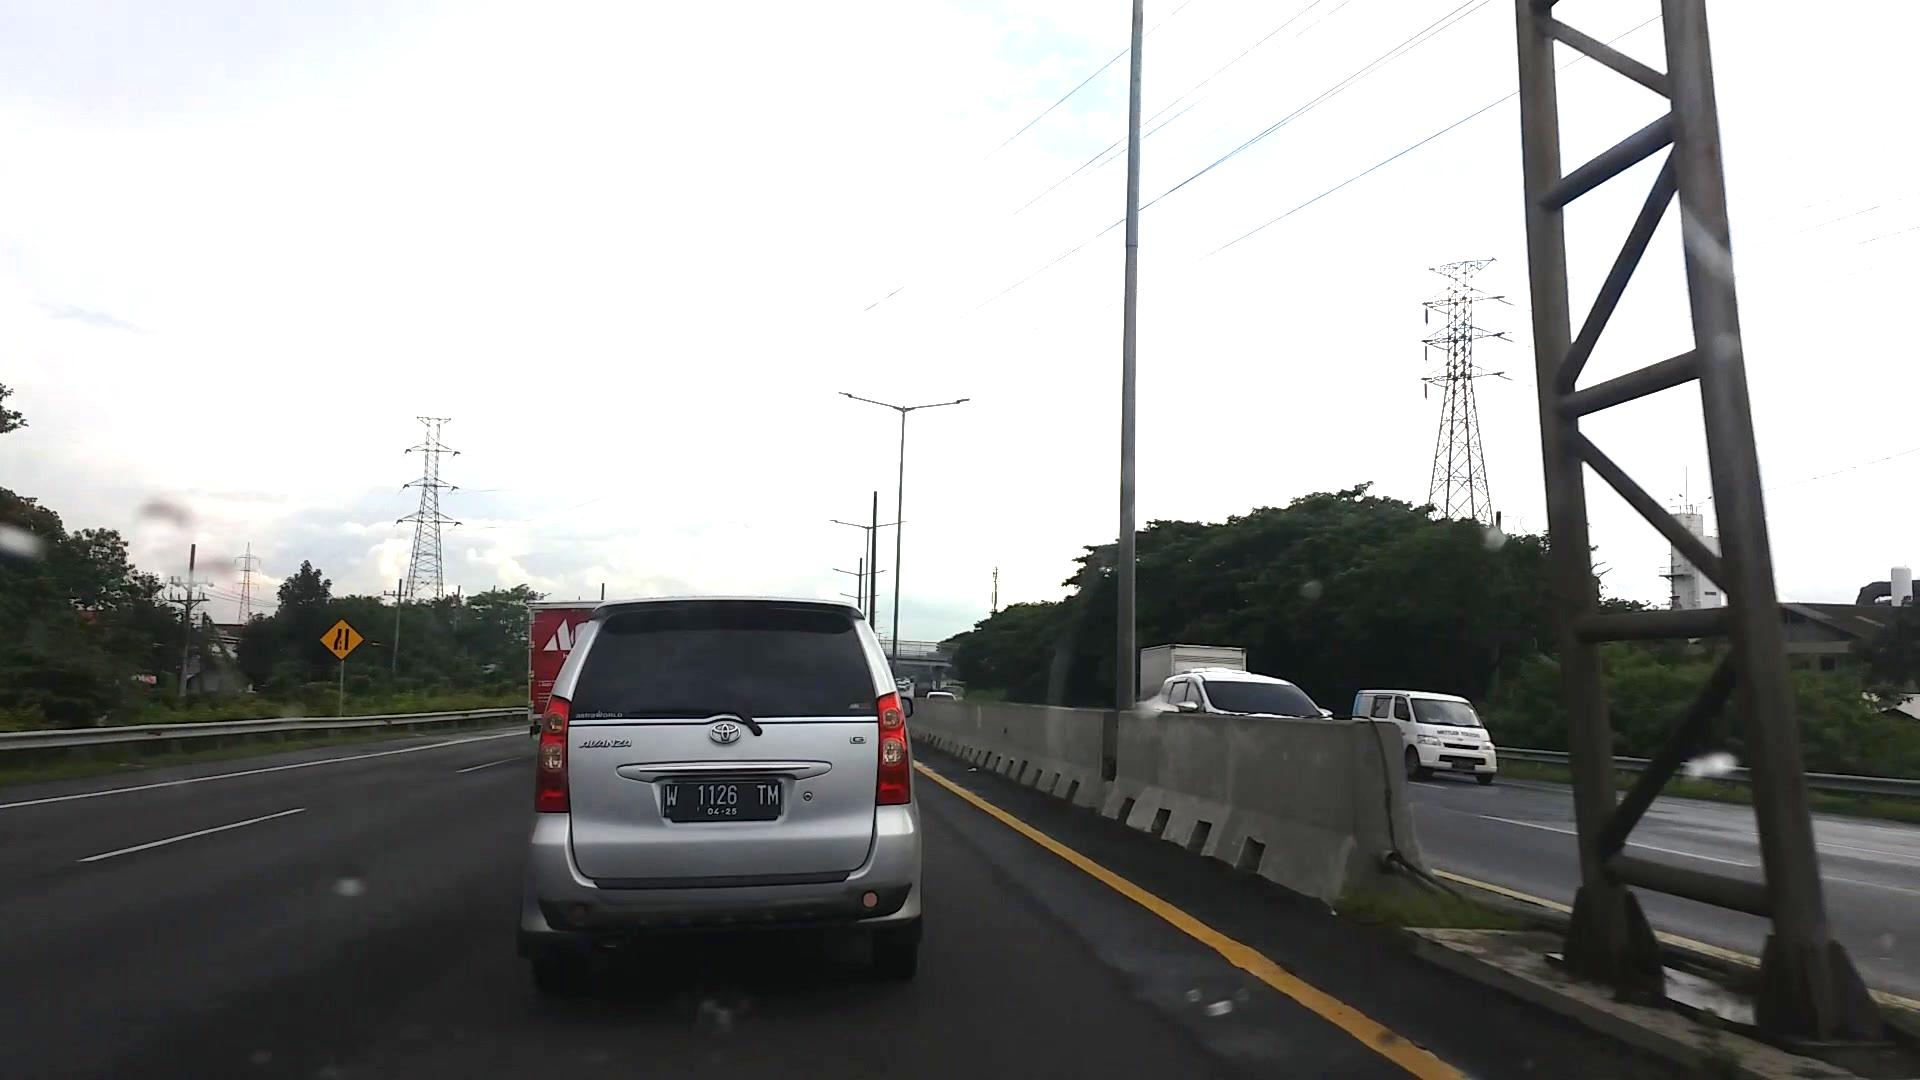plate_positive: (662, 783, 781, 822)
